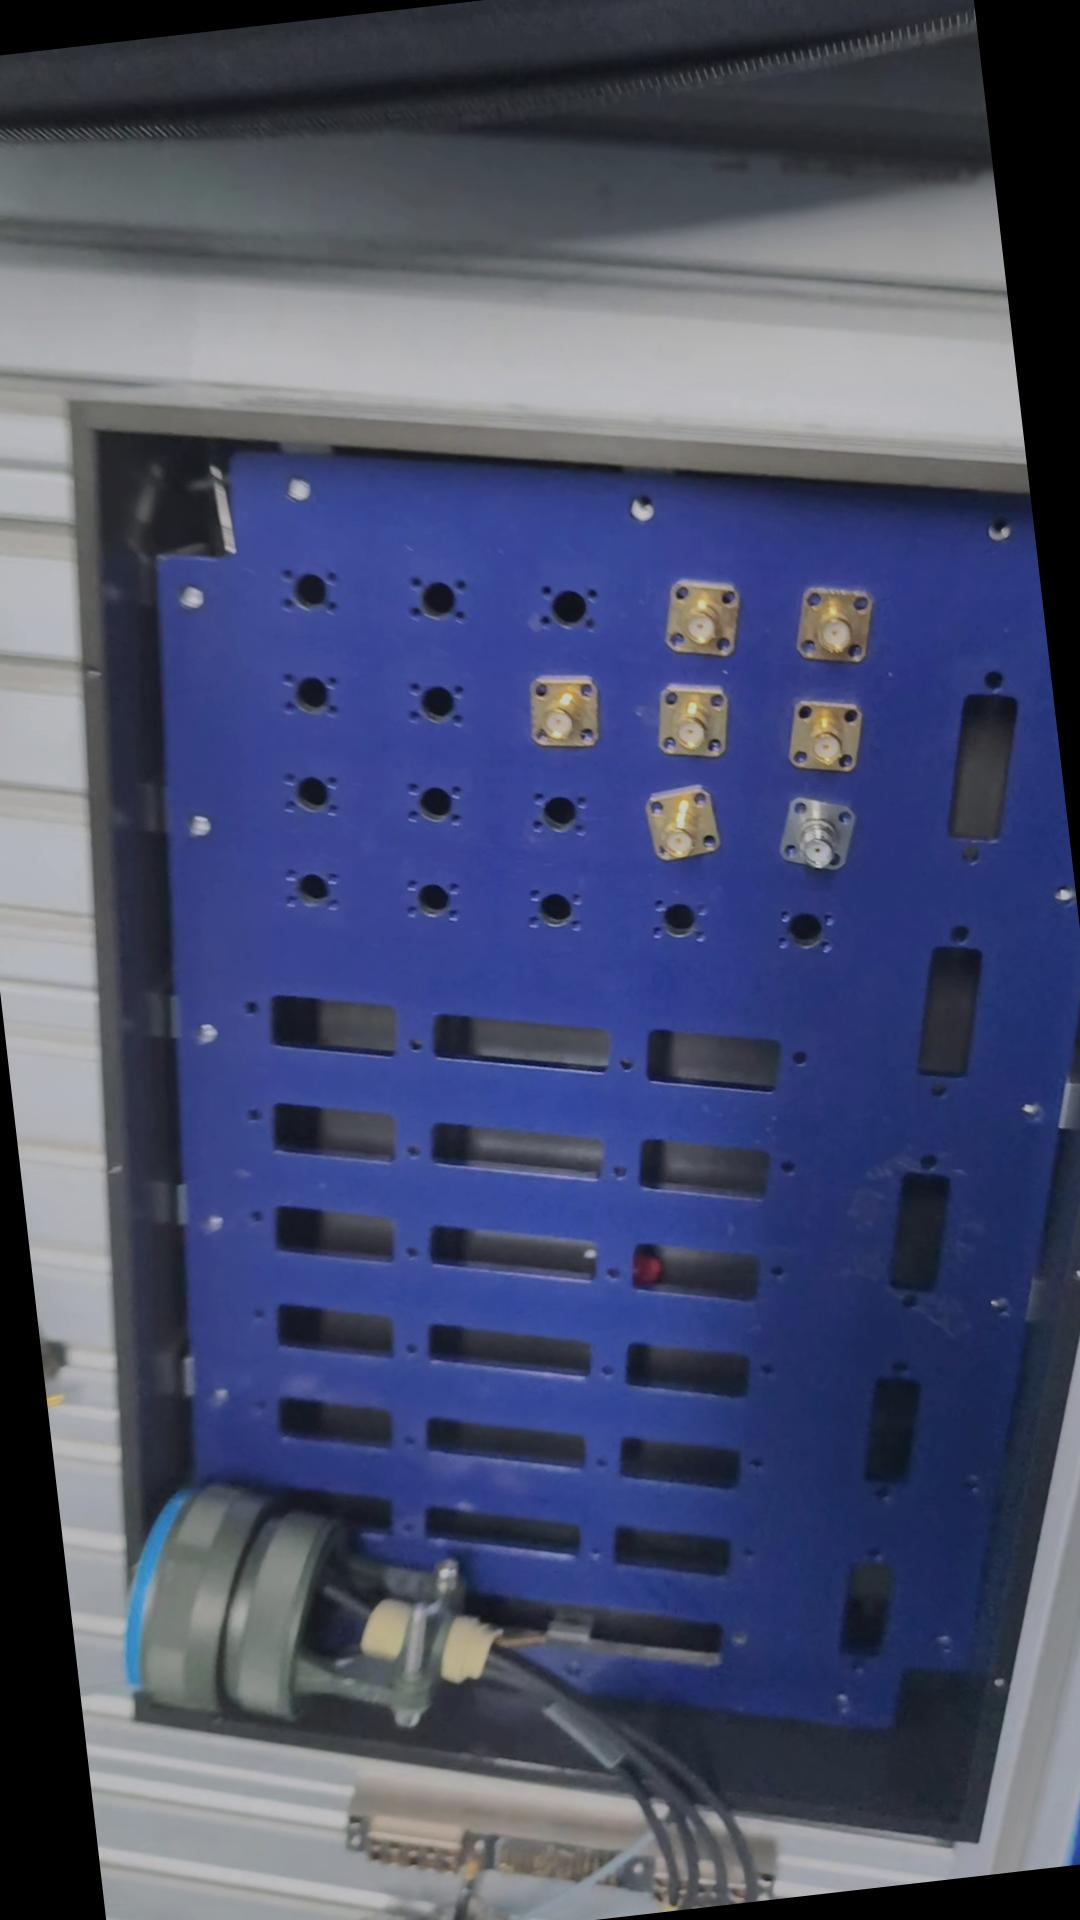SMA: (782, 578, 884, 667), (649, 574, 749, 662), (516, 669, 601, 760), (636, 783, 723, 866), (777, 698, 866, 778), (774, 791, 862, 872), (649, 682, 736, 760)
